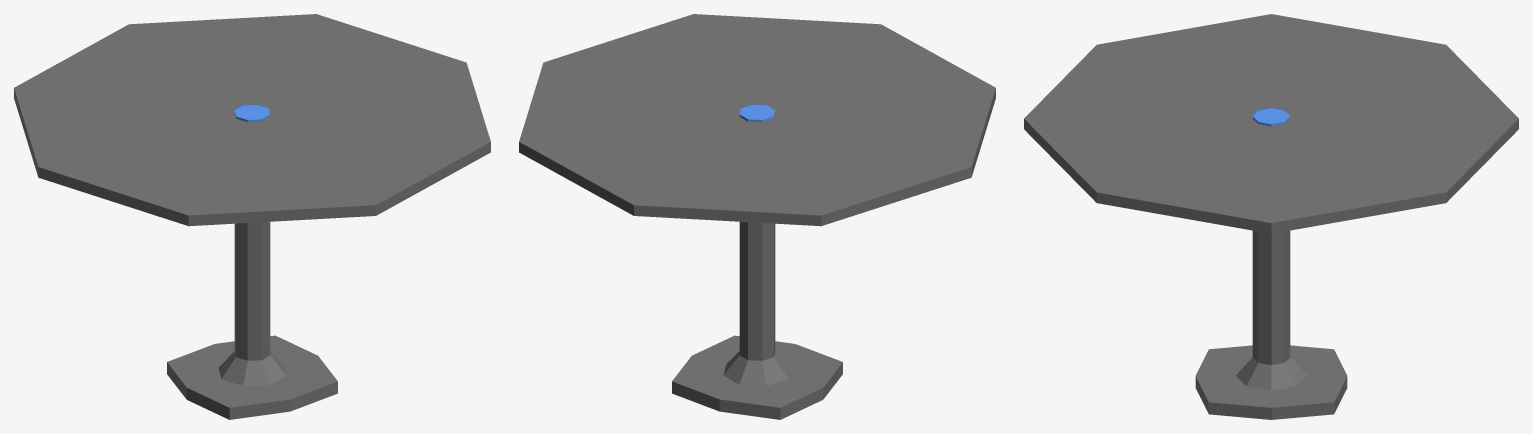
The model's file is Props_ControlRoom_CenterTable.fbx.
3 views of the same model, side by side, from view 1: azimuth 30°, elevation 25°; view 2: azimuth 150°, elevation 25°; view 3: azimuth 270°, elevation 25° (orthographic).
Parts seen in each view (by area): view 1: Cube.001; view 2: Cube.001; view 3: Cube.001.
Part boxes in pixels (x1,y1,x2,y2): Cube.001: (14,14,490,419); Cube.001: (519,14,995,419); Cube.001: (1024,14,1518,419).
Size of the model in its own units: 767 by 464 by 767.
